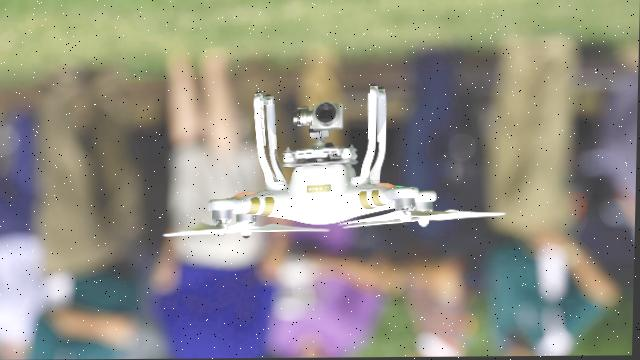drone: (151, 83, 529, 263)
